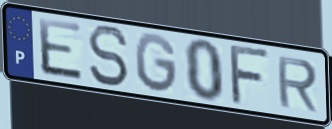0: (179, 36, 227, 104)
E: (36, 16, 86, 84)
F: (229, 44, 273, 107)
G: (133, 31, 179, 96)
R: (275, 54, 320, 114)
S: (85, 23, 130, 89)
